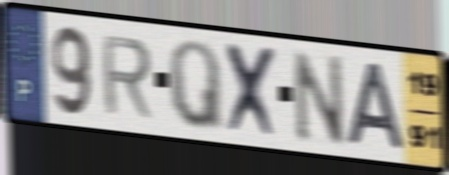9: (48, 22, 93, 119)
A: (344, 59, 408, 153)
N: (290, 47, 348, 148)
Q: (166, 37, 227, 135)
R: (99, 33, 155, 122)
X: (223, 39, 282, 144)
